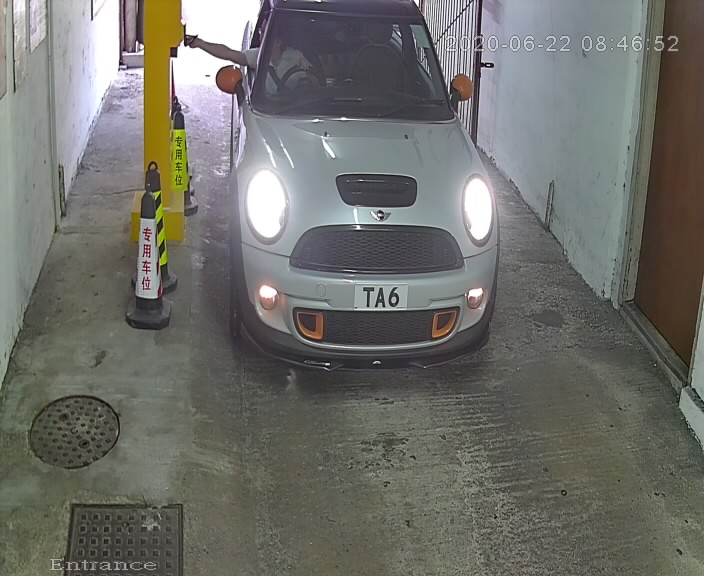privatecar: (204, 2, 514, 371)
